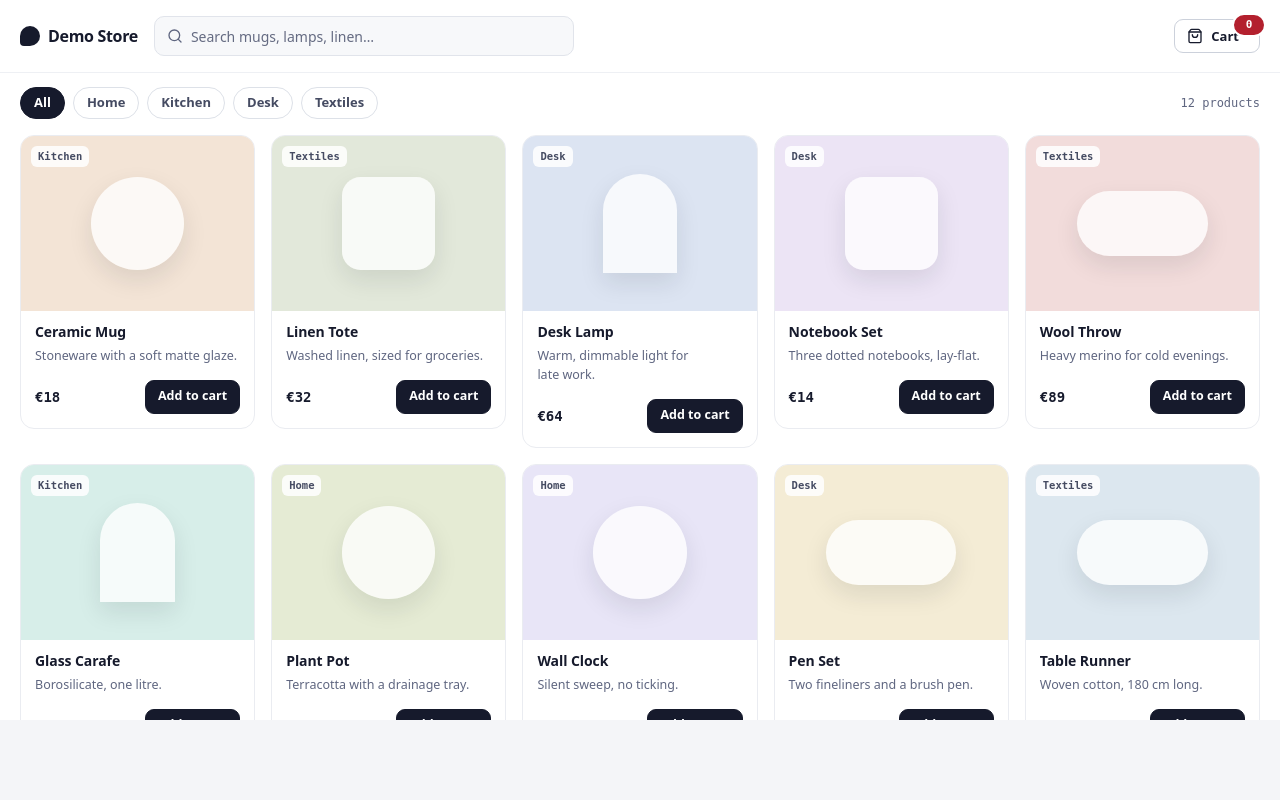
Test: Demo Store › adds to cart with pending and success feedback
Click the button with aria-label "Add Ceramic Mug to cart": (193, 397) [145,380,240,414]
Wait 2300 ms
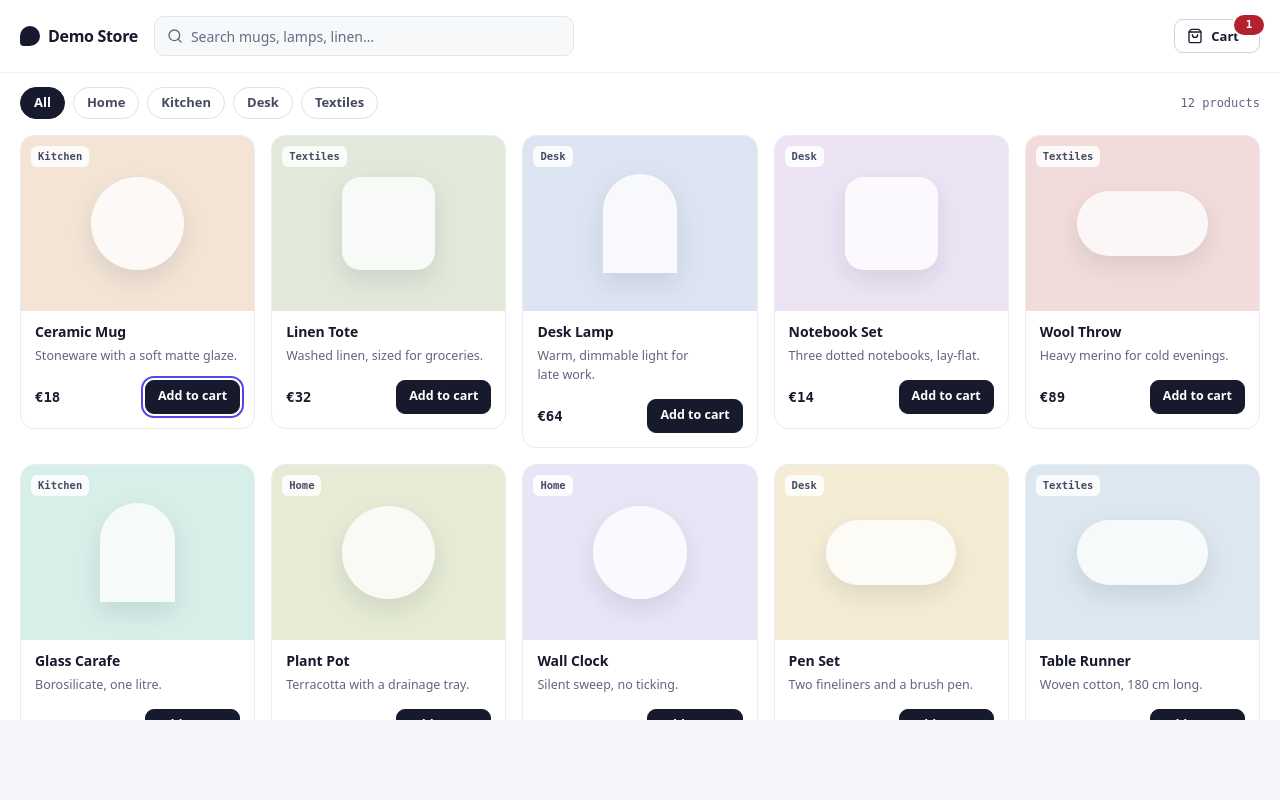
Check: the text "Adding…" below "Stoneware with a soft matte glaze." is shown, box [158,388,227,406]
Check: the button with aria-label "Cart, 1 item" is shown, box [1174,19,1260,53]
